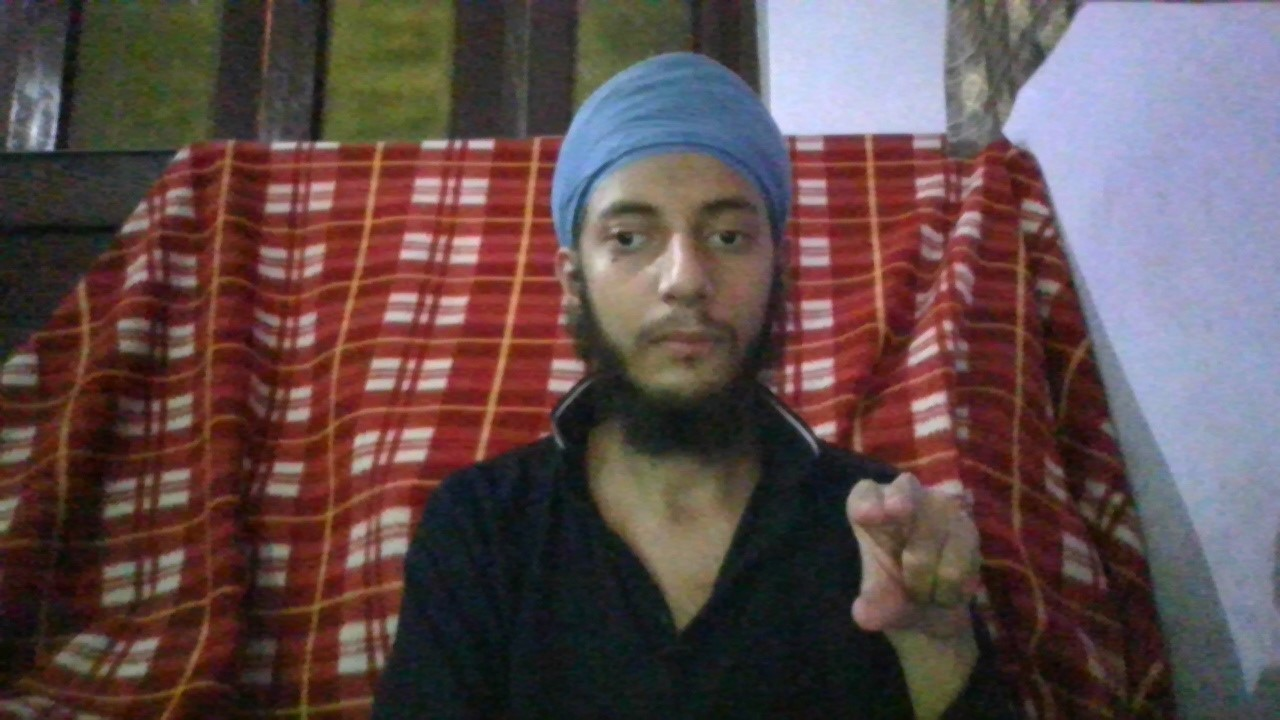No: (845, 475, 983, 637)
